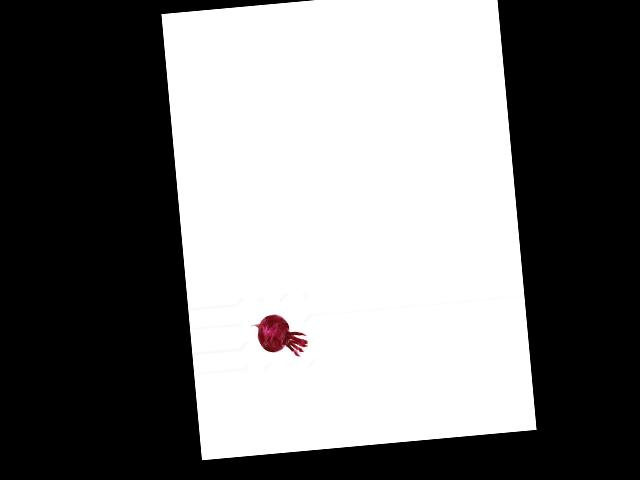beet: (249, 311, 308, 360)
